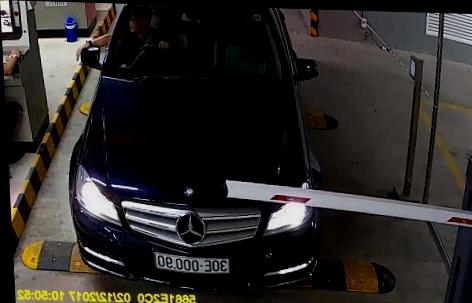License_Plate: (154, 248, 234, 275)
